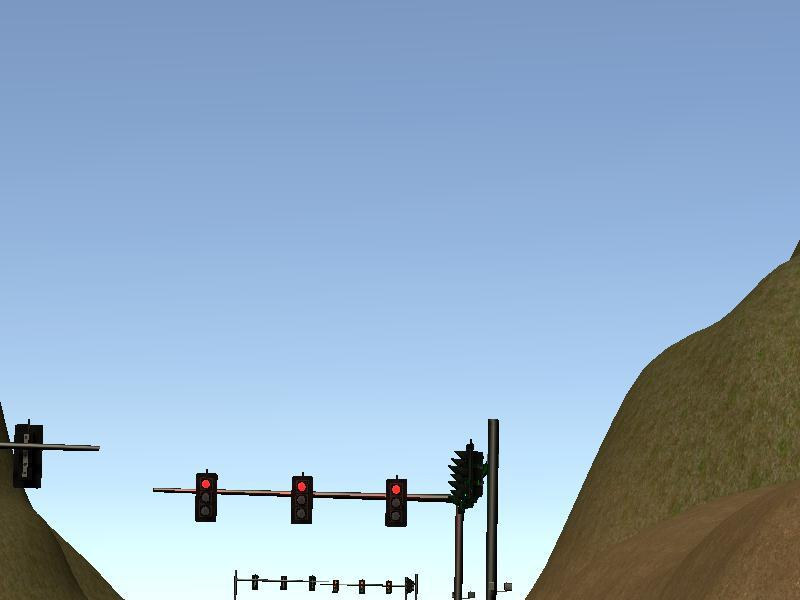Red: (193, 471, 218, 523), (384, 479, 409, 526), (291, 473, 313, 524)
